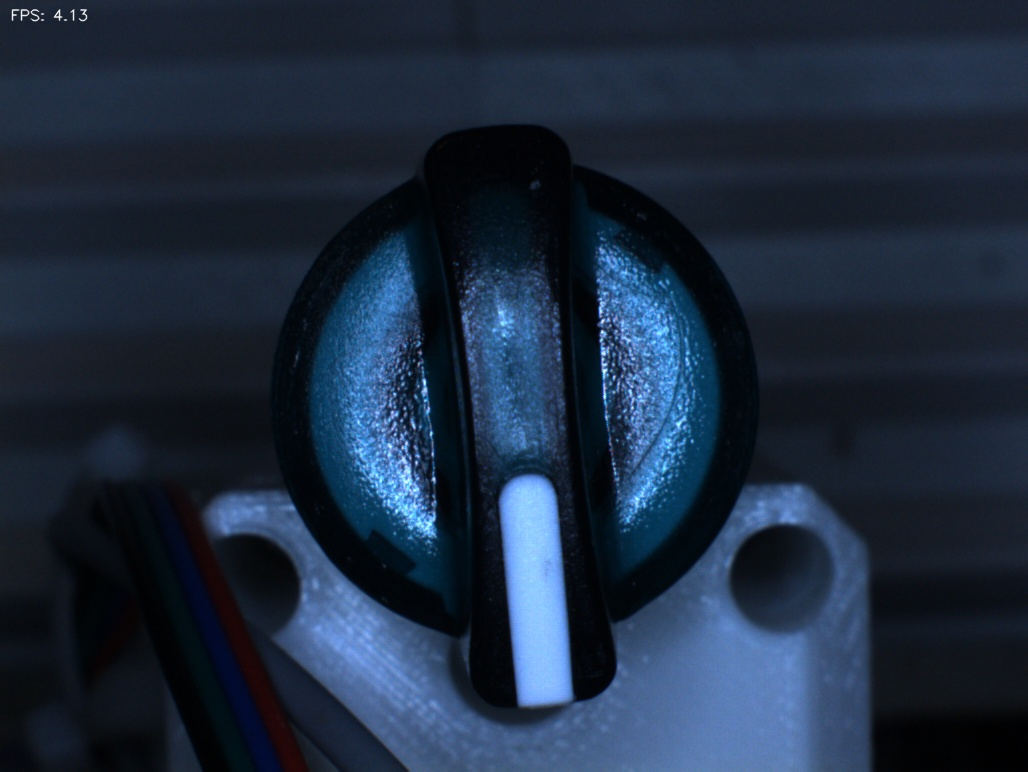PointNoir: (513, 536, 583, 611)
